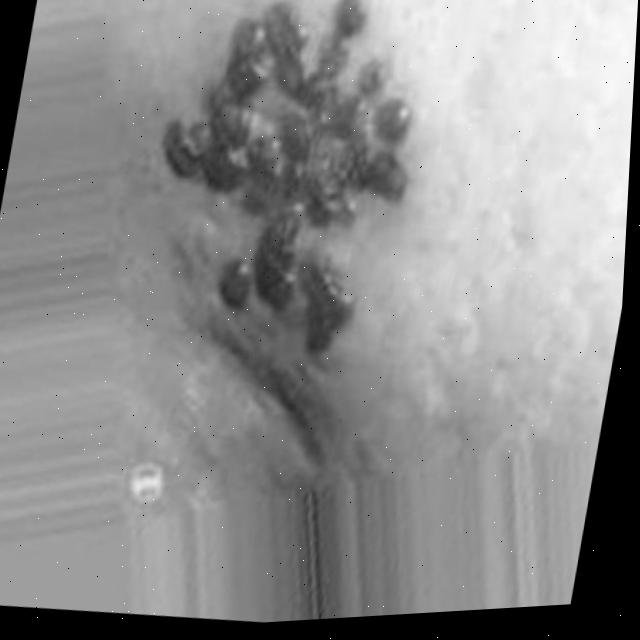Shingles: (122, 0, 436, 381)
